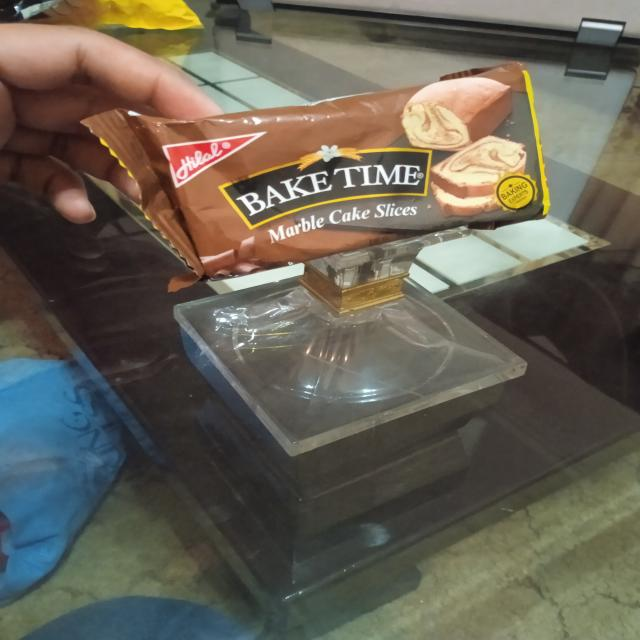Plastic: (97, 74, 564, 274)
